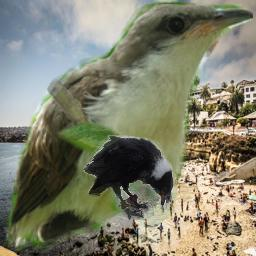Crow: (83, 135, 175, 220)
Cuckoo: (3, 0, 253, 253)
